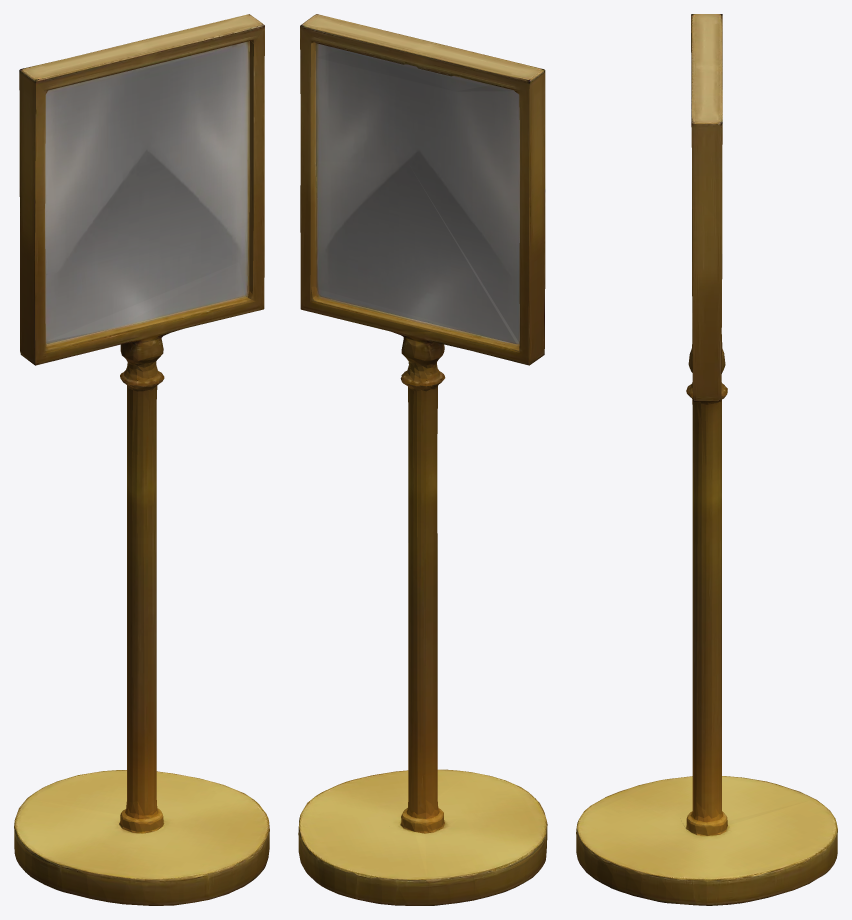
The picture shows the model from 3 angles, left to right: view 1: azimuth 30°, elevation 25°; view 2: azimuth 150°, elevation 25°; view 3: azimuth 270°, elevation 25°; orthographic projection. The views are drawn at different scales.
Visible parts, largest first — view 1: geometry_0; view 2: geometry_0; view 3: geometry_0.
Part boxes in pixels (x1,y1,x2,y2): geometry_0: (14,14,269,905); geometry_0: (298,14,547,905); geometry_0: (576,14,837,905).
Size of the model in its own units: 0.2993 by 0.9999 by 0.3019.
Materials: 1 (1 with a texture image).
